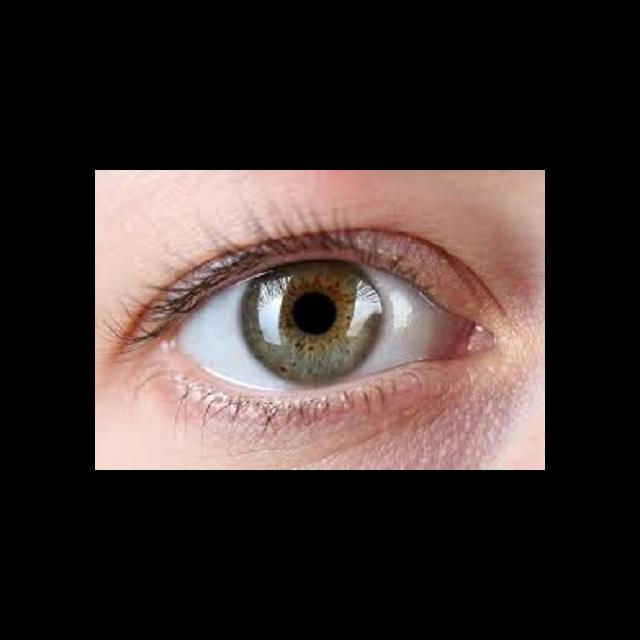eye: (173, 257, 466, 397)
iris: (238, 260, 385, 388)
